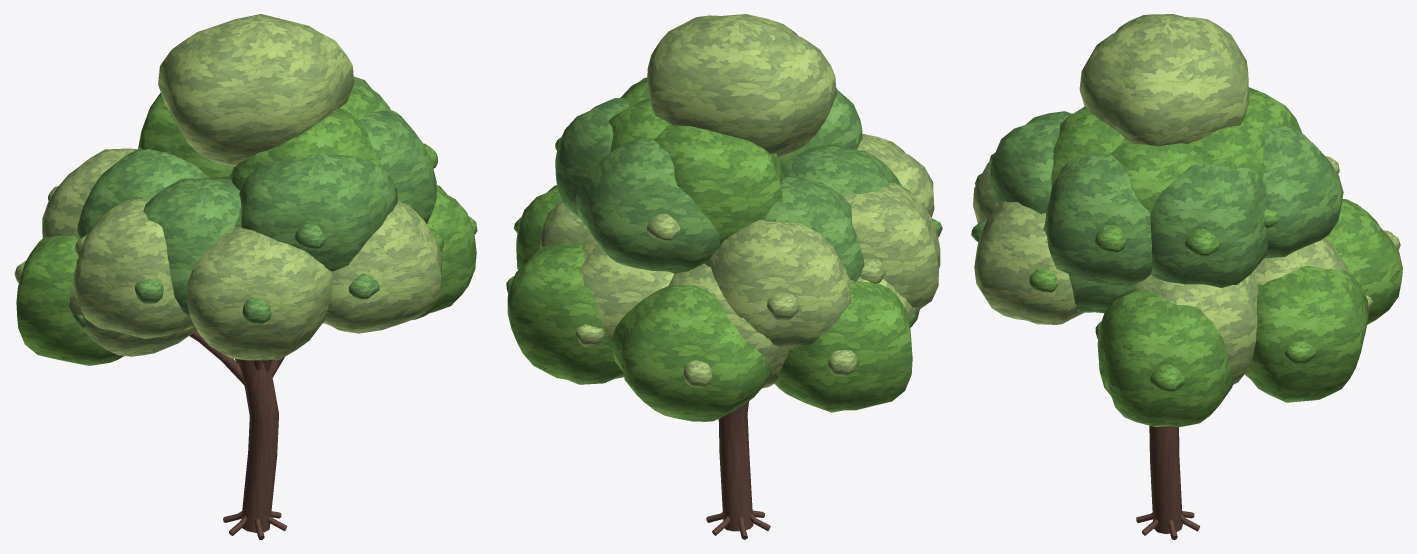
The model's file is tree_3.glb.
The picture shows the model from 3 angles, left to right: view 1: azimuth 30°, elevation 25°; view 2: azimuth 150°, elevation 25°; view 3: azimuth 270°, elevation 25°; orthographic projection.
Parts seen in each view (by area): view 1: tree_3; view 2: tree_3; view 3: tree_3.
Boxes of the visible parts, box(x1,y1,x2,y2) form: tree_3: box(14, 14, 477, 539); tree_3: box(506, 14, 942, 539); tree_3: box(971, 14, 1402, 539).
Size of the model in its own units: 6.02 by 6.81 by 5.27.
Materials: 1 (1 with a texture image).
